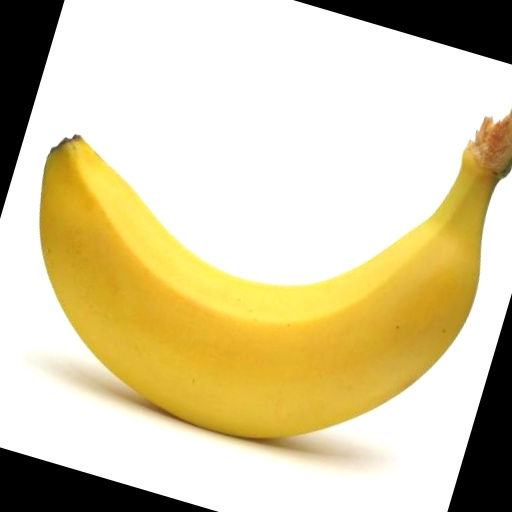fruit: (0, 41, 107, 350)
